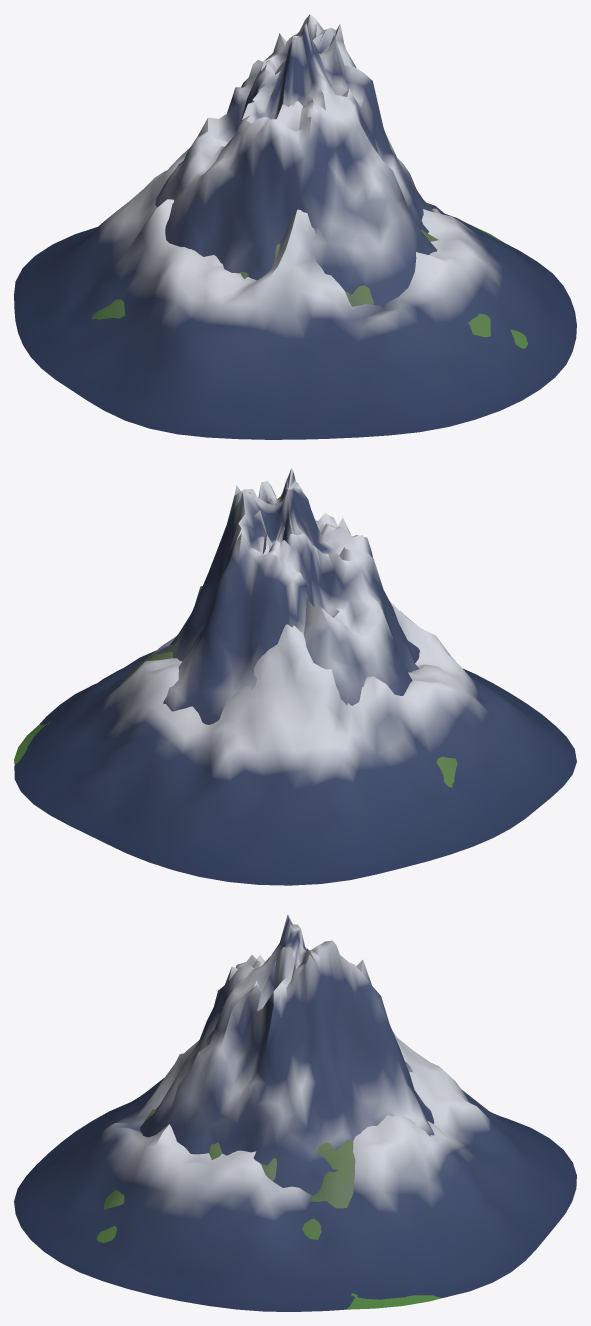
Rendered from env_nature.glb.
The picture shows the model from 3 angles, top to bottom: view 1: azimuth 30°, elevation 25°; view 2: azimuth 150°, elevation 25°; view 3: azimuth 270°, elevation 25°; orthographic projection. The views are drawn at different scales.
Visible parts, largest first — view 1: p_peak_b, p_peak_a, v_peak_b; view 2: p_peak_b, p_peak_a, v_peak_b; view 3: p_peak_b, p_peak_a, v_peak_b.
Part boxes in pixels (bbox=[...]): p_peak_b: bbox=[14, 147, 576, 439]; p_peak_a: bbox=[155, 14, 436, 305]; v_peak_b: bbox=[92, 200, 527, 348]; p_peak_b: bbox=[14, 602, 576, 885]; p_peak_a: bbox=[149, 468, 419, 724]; v_peak_b: bbox=[14, 643, 457, 787]; p_peak_b: bbox=[14, 1032, 576, 1311]; p_peak_a: bbox=[140, 914, 434, 1195]; v_peak_b: bbox=[96, 1106, 441, 1309].
Bounding box in the file's own units: 388 × 230 × 408.
